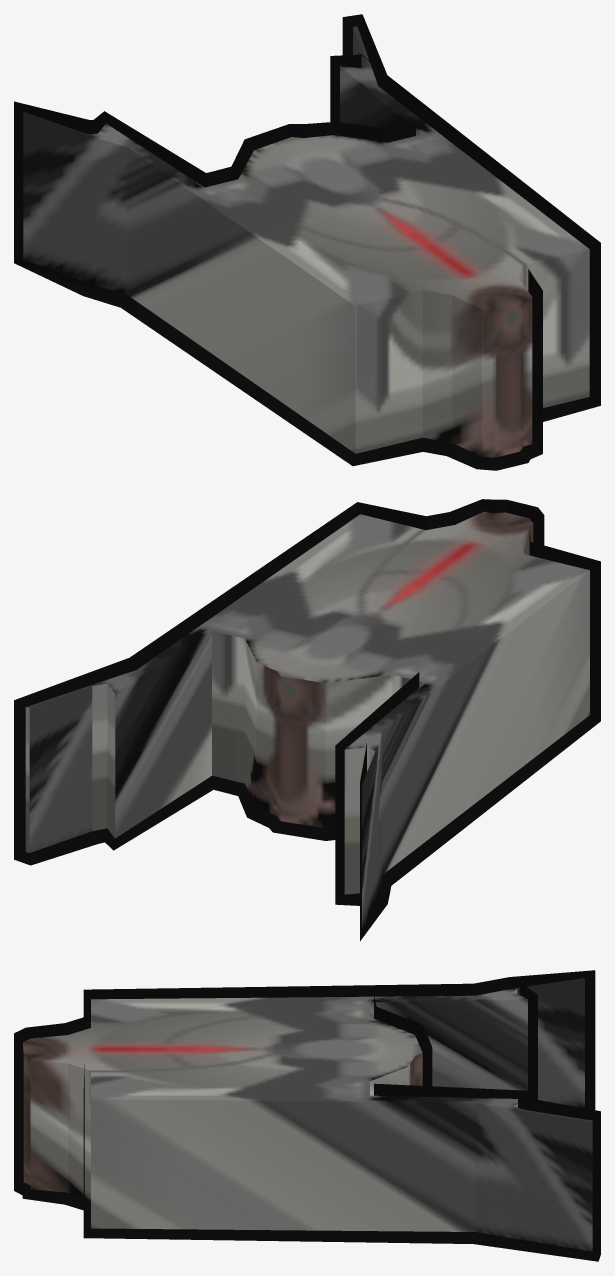
Rendered from Building_FrenzyInducer_Things_Building_FrenzyInducer.glb.
The picture shows the model from 3 angles, top to bottom: view 1: azimuth 30°, elevation 25°; view 2: azimuth 150°, elevation 25°; view 3: azimuth 270°, elevation 25°; orthographic projection. The views are drawn at different scales.
Visible parts, largest first — view 1: Body, Outline; view 2: Body, Outline; view 3: Body, Outline.
Part boxes in pixels (bbox=[...]): Body: bbox=[23, 26, 589, 457]; Outline: bbox=[14, 14, 600, 470]; Body: bbox=[25, 511, 589, 929]; Outline: bbox=[14, 499, 600, 941]; Body: bbox=[23, 978, 592, 1251]; Outline: bbox=[14, 970, 600, 1261].
Bounding box in the file's own units: 0.6556 × 0.307 × 1.09.
2 materials, 1 textured.
